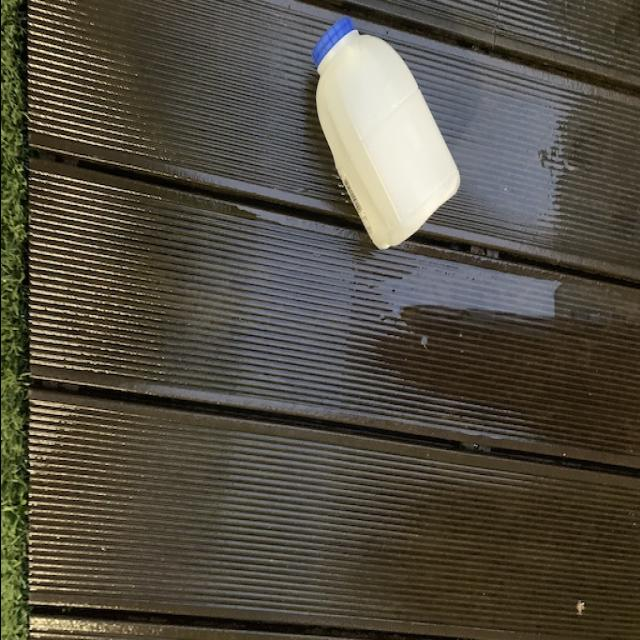litter: (305, 16, 457, 268)
